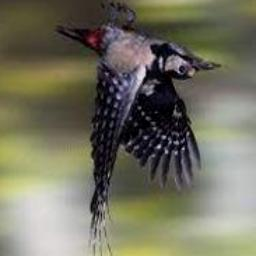Woodpecker: (55, 4, 221, 256)
